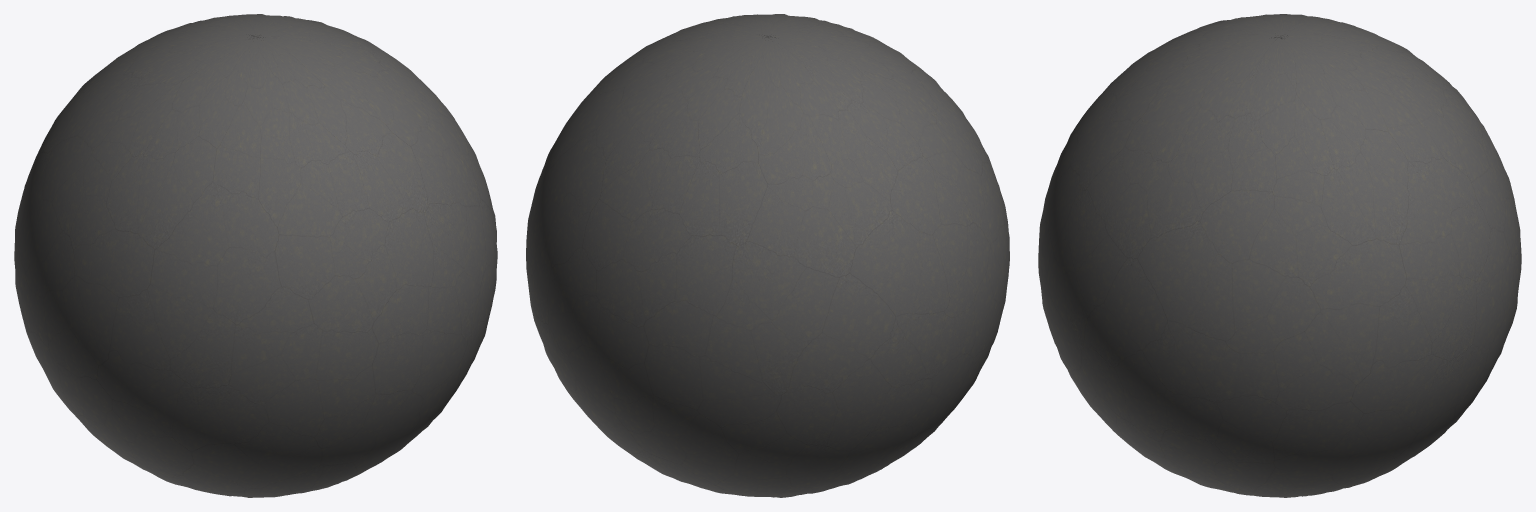
Rendered from rock_material.glb.
3 renders of one model, left to right at view 1: azimuth 30°, elevation 25°; view 2: azimuth 150°, elevation 25°; view 3: azimuth 270°, elevation 25°, orthographic.
Visible parts, largest first — view 1: MaterialObject; view 2: MaterialObject; view 3: MaterialObject.
Boxes of the visible parts, left/top/right/bottom form: MaterialObject: left=14, top=14, right=497, bottom=497; MaterialObject: left=526, top=14, right=1009, bottom=497; MaterialObject: left=1038, top=14, right=1521, bottom=497.
Size of the model in its own units: 99.78 by 99.89 by 99.66.
Materials: 1 (1 with a texture image).
